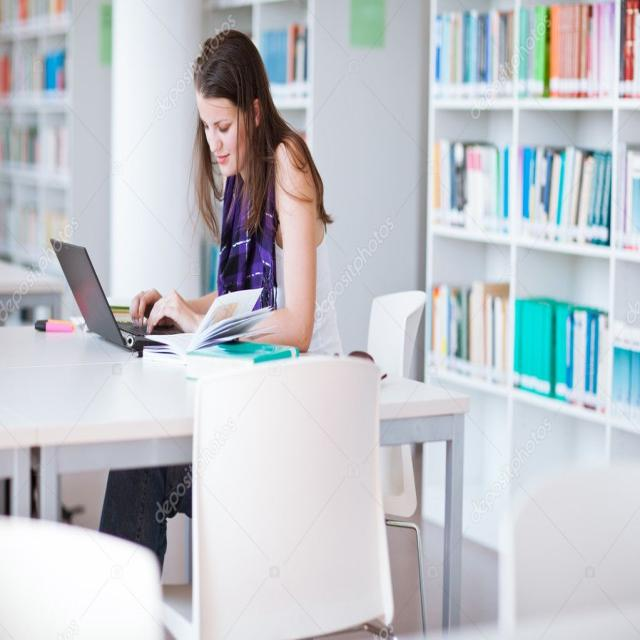studying-person: (129, 15, 355, 367)
